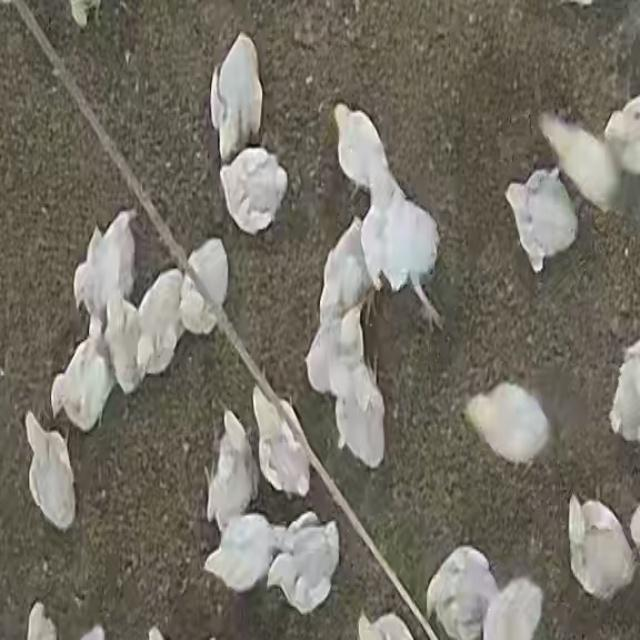chicken: (362, 188, 442, 322), (540, 112, 619, 213), (267, 513, 341, 614), (73, 210, 137, 326), (464, 381, 552, 464), (506, 169, 577, 271), (566, 497, 633, 601), (211, 33, 264, 163), (308, 298, 382, 390), (253, 388, 312, 501), (329, 358, 388, 471), (428, 547, 499, 640), (25, 412, 77, 532), (208, 409, 260, 528), (51, 336, 112, 436), (333, 103, 392, 206), (204, 512, 278, 594), (220, 147, 286, 235), (318, 219, 373, 323), (134, 273, 184, 377), (178, 240, 230, 336)
